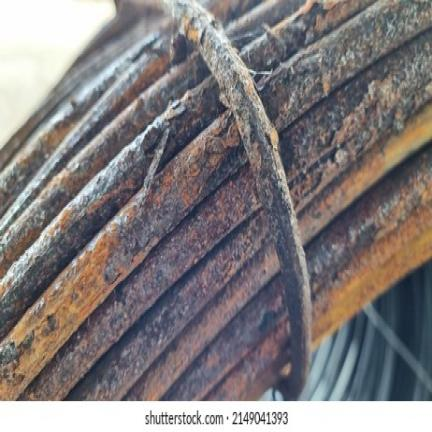karat: (79, 173, 280, 389)
